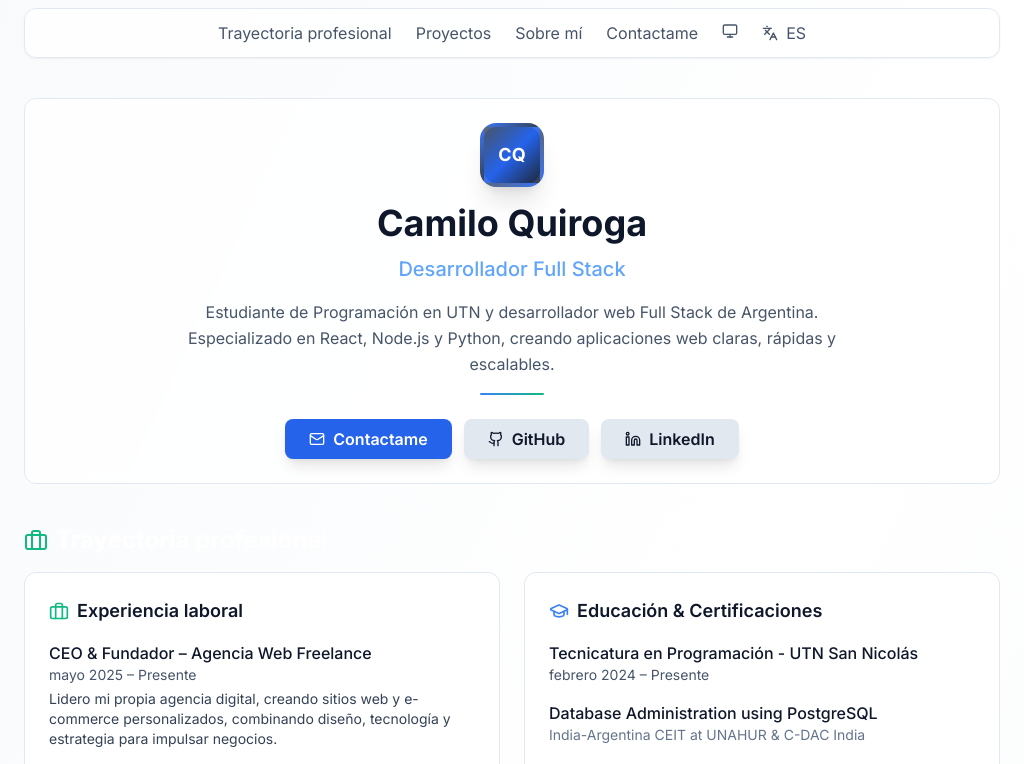
Test: App › opens theme menu when theme button is clicked
The image size is (1024, 764).
Click the button named "Abrir selector de tema": coordinates (730, 31) [722,23,738,39]
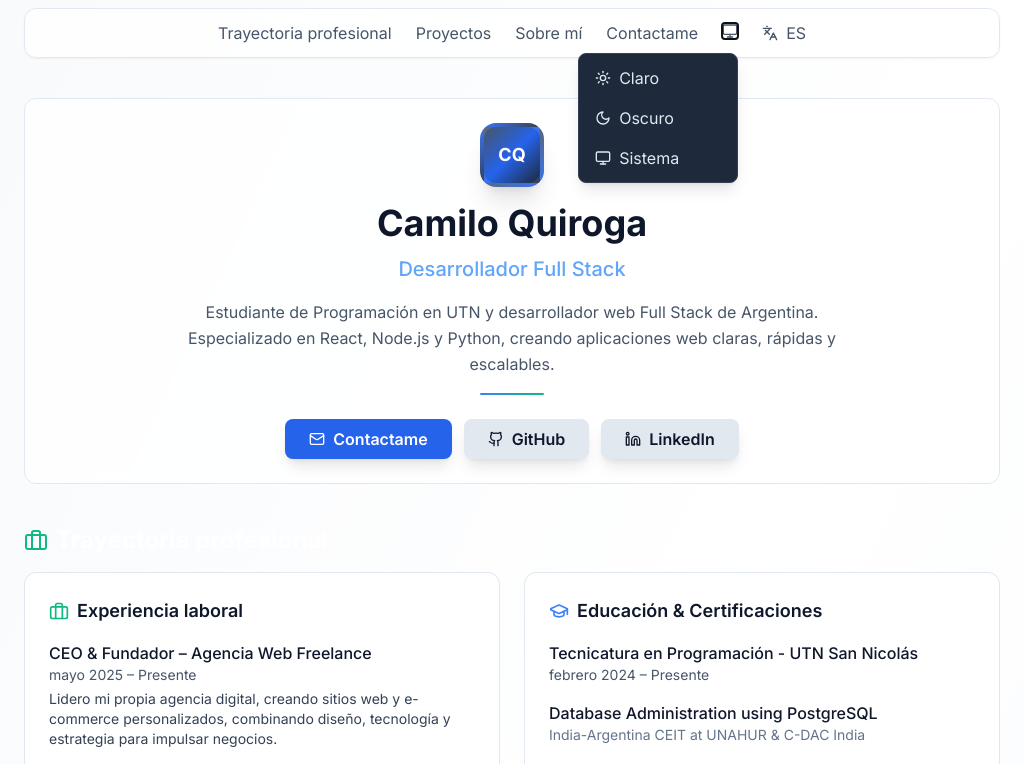
Now the menu item "Claro" is shown, box [583,58,733,98]
Now the menu item "Oscuro" is shown, box [583,98,733,138]
Now the menu item "Sistema" is shown, box [583,138,733,178]
